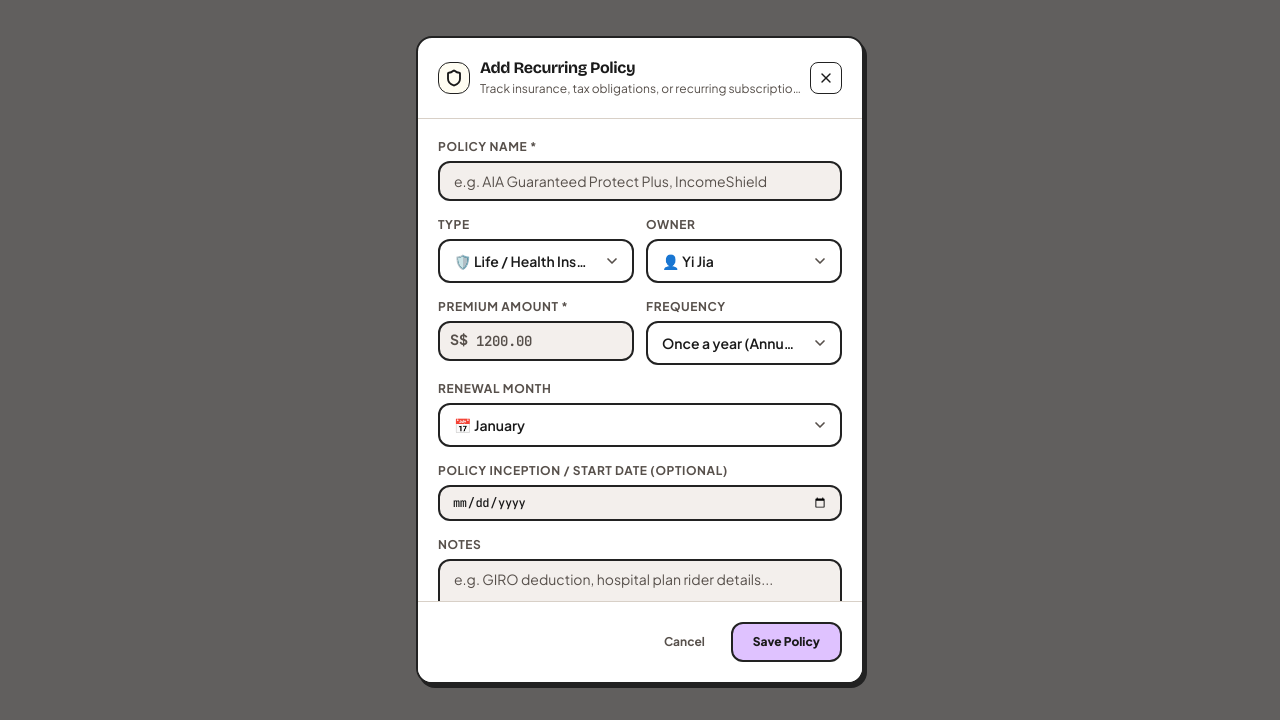
AddPolicyModal Component › validates required inputs before saving
The image size is (1280, 720).
Click the button "Save Policy": (786, 642) [731,622,842,662]
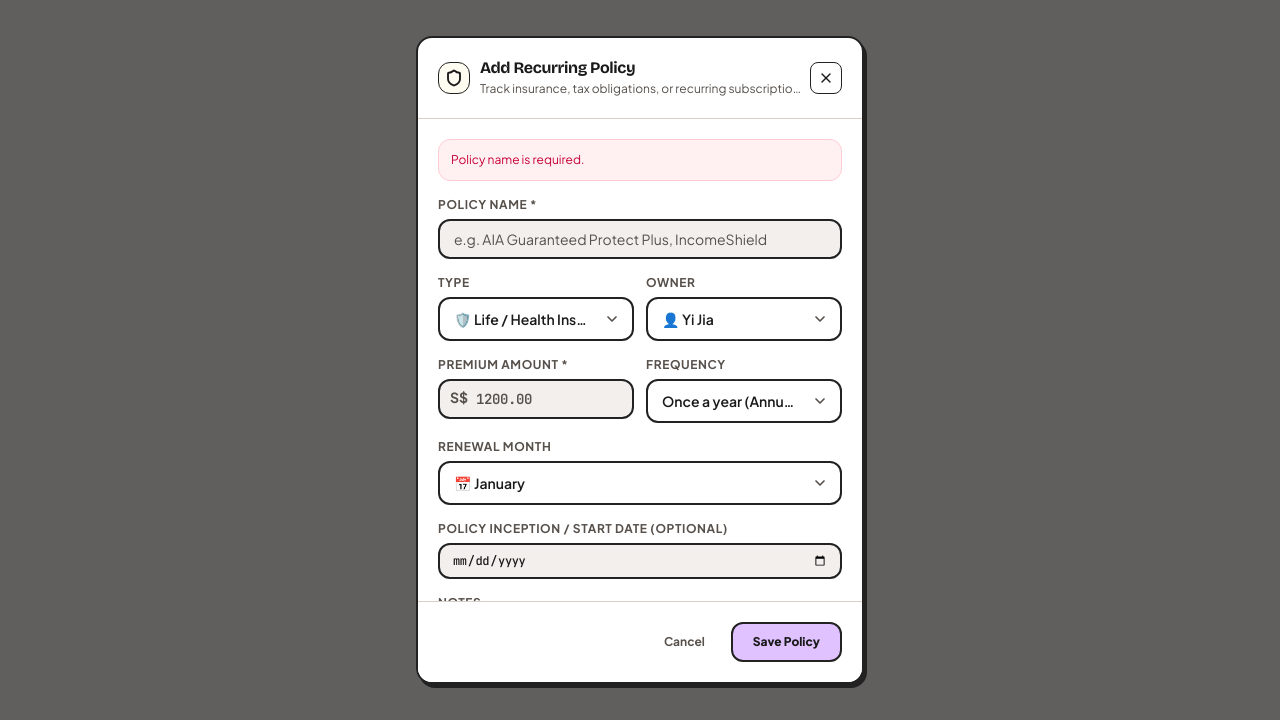
Check: the text "Policy name is required." is shown, box [438,139,842,181]
